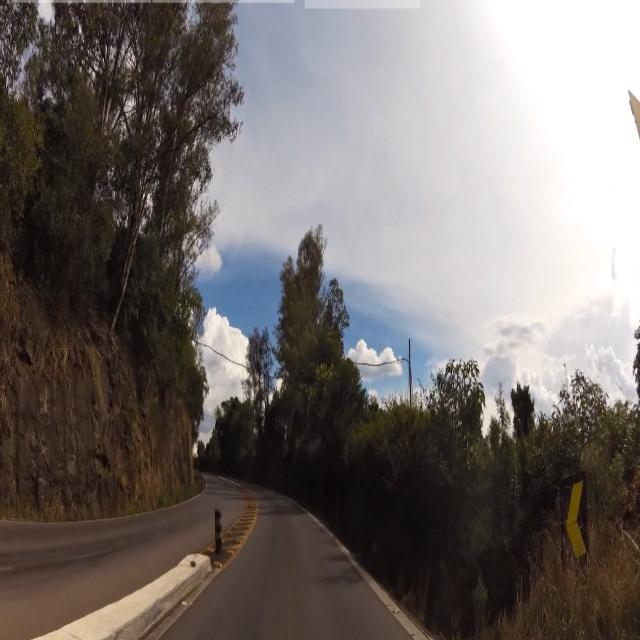Del: (559, 475, 593, 575)
